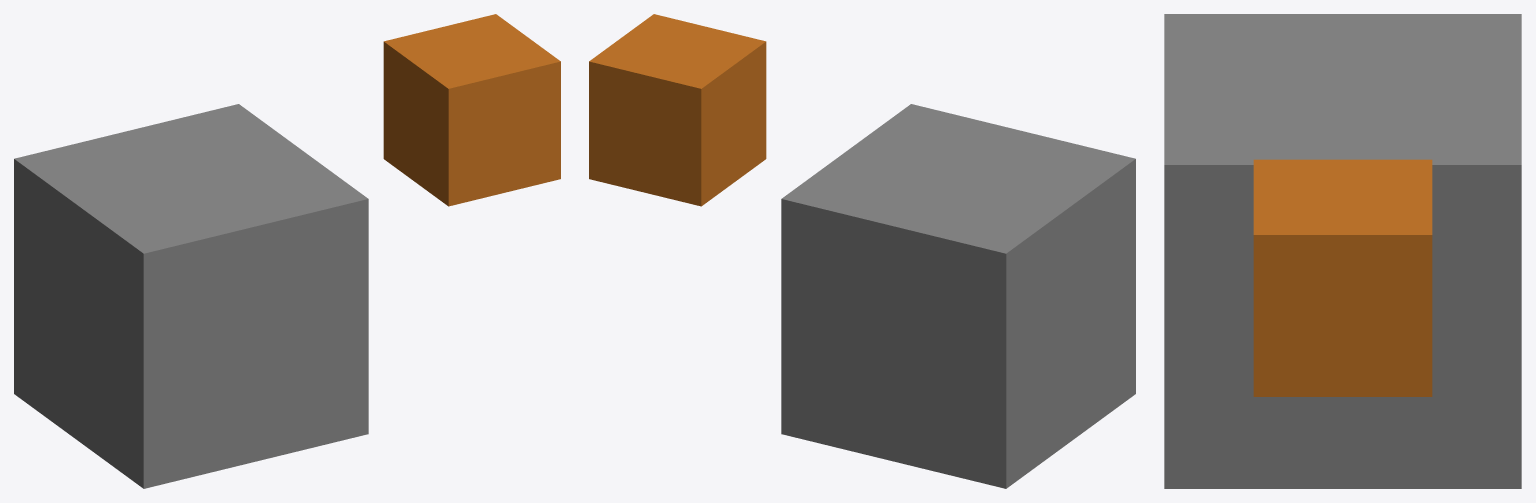
The model's file is blender-empty-parent-scene.glb.
3 views of the same model, side by side, from view 1: azimuth 30°, elevation 25°; view 2: azimuth 150°, elevation 25°; view 3: azimuth 270°, elevation 25° (orthographic). The views are drawn at different scales.
Parts seen in each view (by area): view 1: arm/body, tip/body; view 2: arm/body, tip/body; view 3: arm/body, tip/body.
Part boxes in pixels (box(x1,y1,x2,y2)): arm/body: box(14, 104, 368, 488); tip/body: box(383, 14, 560, 206); arm/body: box(781, 104, 1135, 488); tip/body: box(589, 14, 766, 206); arm/body: box(1164, 14, 1521, 488); tip/body: box(1253, 159, 1432, 396).
Size of the model in its own units: 0.8 by 0.5 by 0.4.
